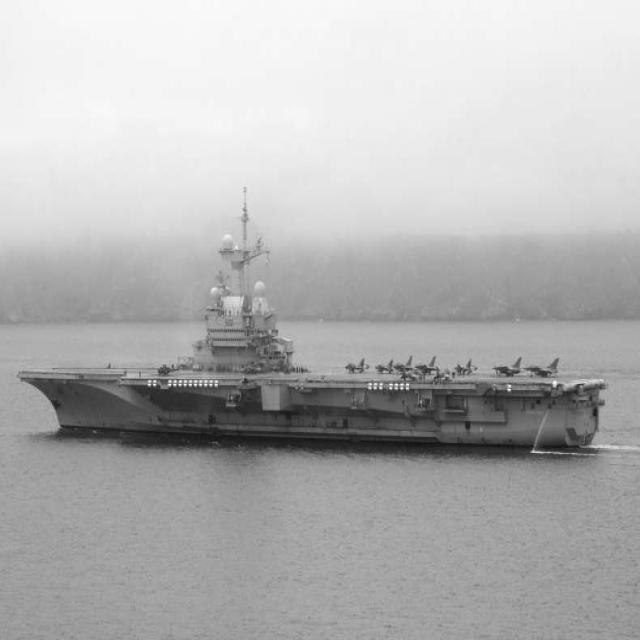Portanaves: (11, 185, 607, 462)
